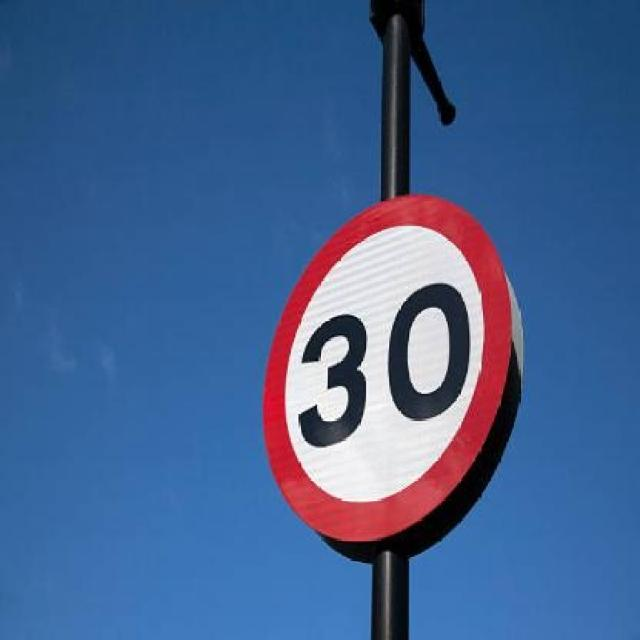forb_speed_over_30: (266, 199, 514, 553)
